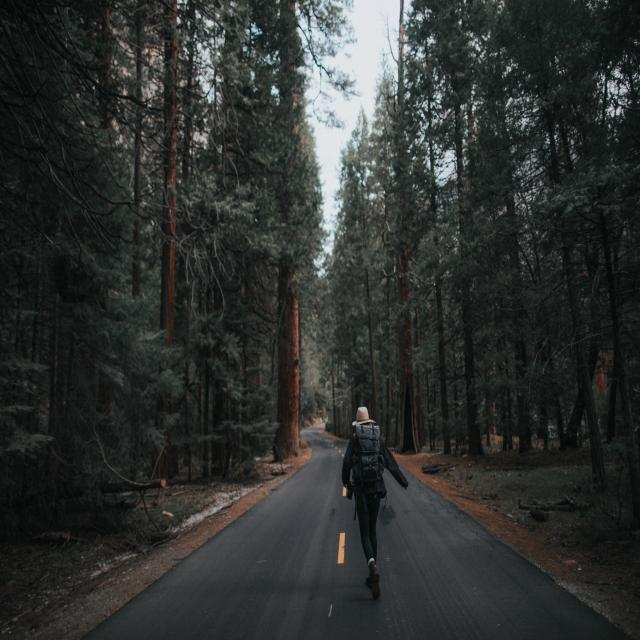adult: (342, 401, 411, 603)
